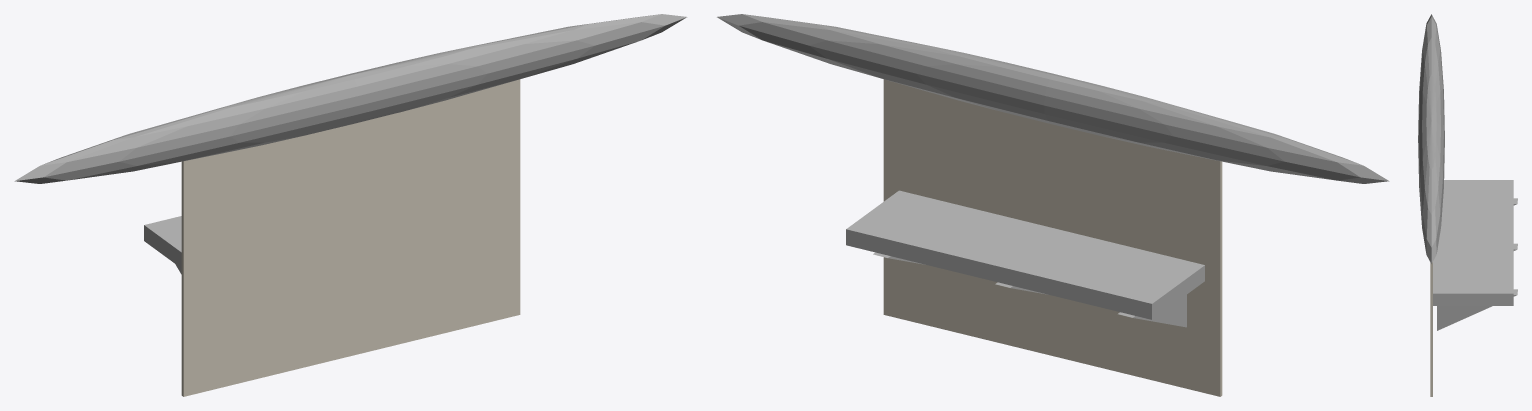
Rendered from video_store_shelf.glb.
3 renders of one model, left to right at view 1: azimuth 30°, elevation 25°; view 2: azimuth 150°, elevation 25°; view 3: azimuth 270°, elevation 25°, orthographic. The views are drawn at different scales.
Visible parts, largest first — view 1: Backing, Crown, MainShelf; view 2: Backing, Crown, MainShelf, Bracket_1; view 3: MainShelf, Crown, Bracket_3, Backing.
Part boxes in pixels (x1,y1,x2,y2): Backing: (181, 79, 520, 396); Crown: (14, 14, 686, 183); MainShelf: (144, 216, 181, 268); Backing: (883, 79, 1222, 396); Crown: (717, 14, 1389, 183); MainShelf: (846, 190, 1204, 319); Bracket_1: (1118, 294, 1186, 327); MainShelf: (1433, 180, 1513, 305); Crown: (1418, 14, 1444, 263); Bracket_3: (1437, 289, 1517, 330); Backing: (1430, 262, 1432, 396).
Bounding box in the file's own units: 4.4 × 1.75 × 0.7415.
